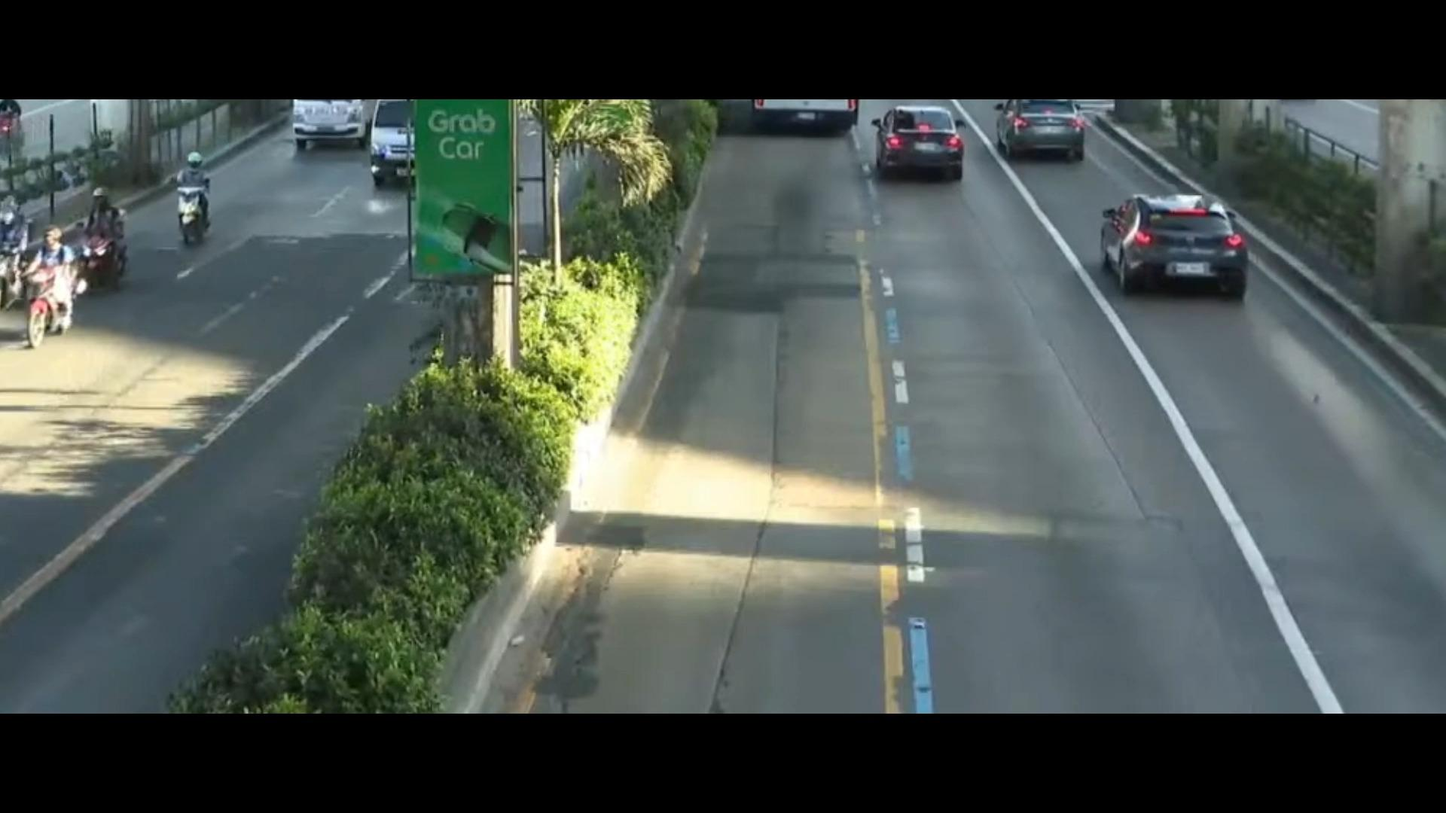Motorcycle: (11, 231, 103, 348), (71, 179, 146, 310), (161, 144, 231, 256), (0, 196, 56, 306)
Sedan: (1095, 171, 1265, 308), (853, 103, 992, 193), (982, 103, 1094, 169)
